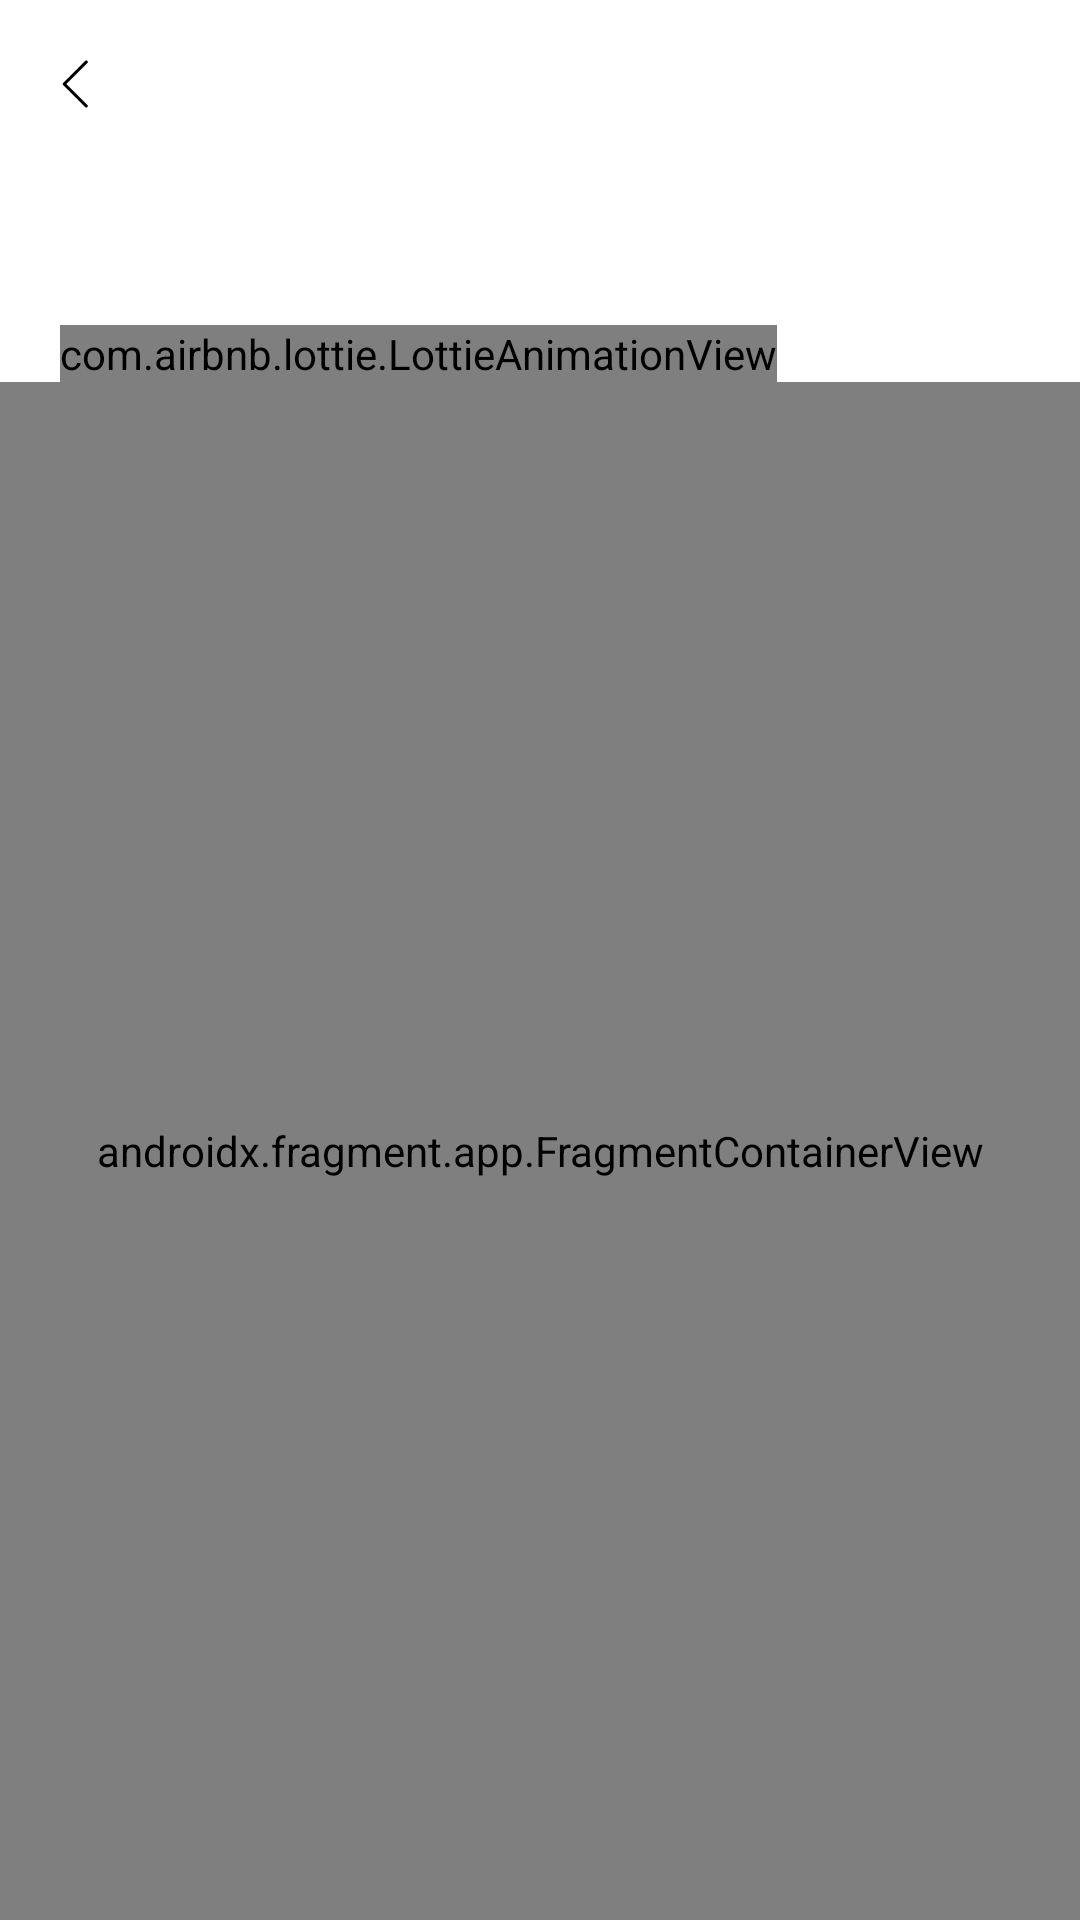

Screen size 1080px x 1920px. Icon name, then its box in pixels as (x1, y1, x2, y2):
back: (62, 60, 88, 108)
